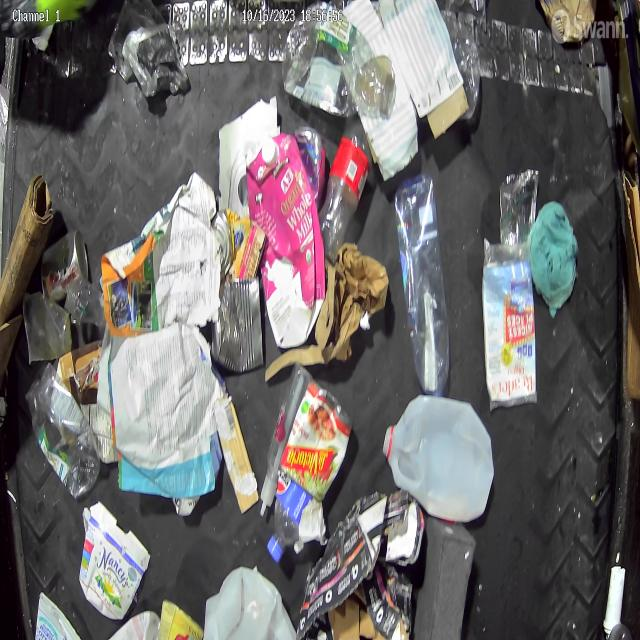can: (212, 276, 263, 372), (210, 212, 266, 282), (41, 228, 88, 302), (499, 168, 539, 243)
milk_jug: (382, 395, 495, 524), (204, 564, 297, 640), (158, 597, 204, 640)
non_white_jug: (244, 133, 327, 349)
plastic_bottle: (283, 2, 396, 120), (394, 174, 450, 396), (25, 362, 102, 498), (317, 121, 372, 262)
